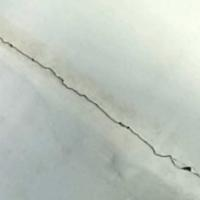crack: (0, 33, 199, 178)
